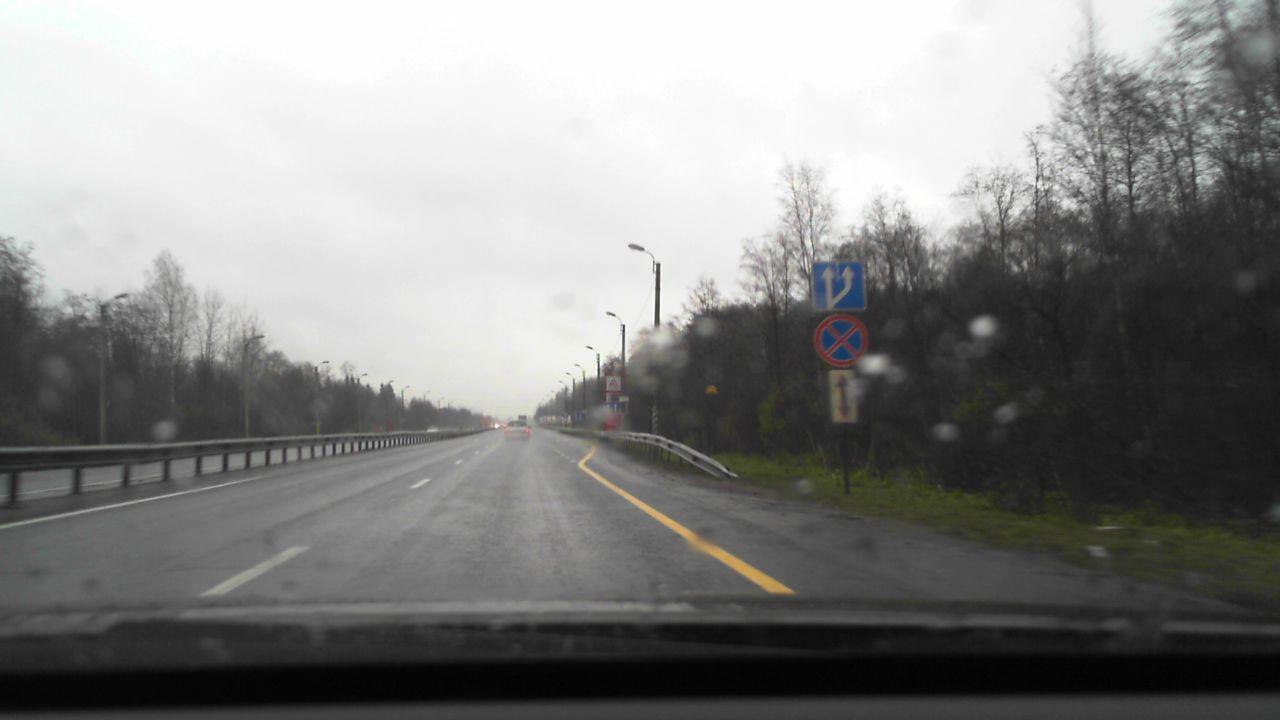3_27: (811, 314, 869, 368)
5_15_3: (809, 260, 868, 312)
8_2_4: (828, 371, 860, 423)
